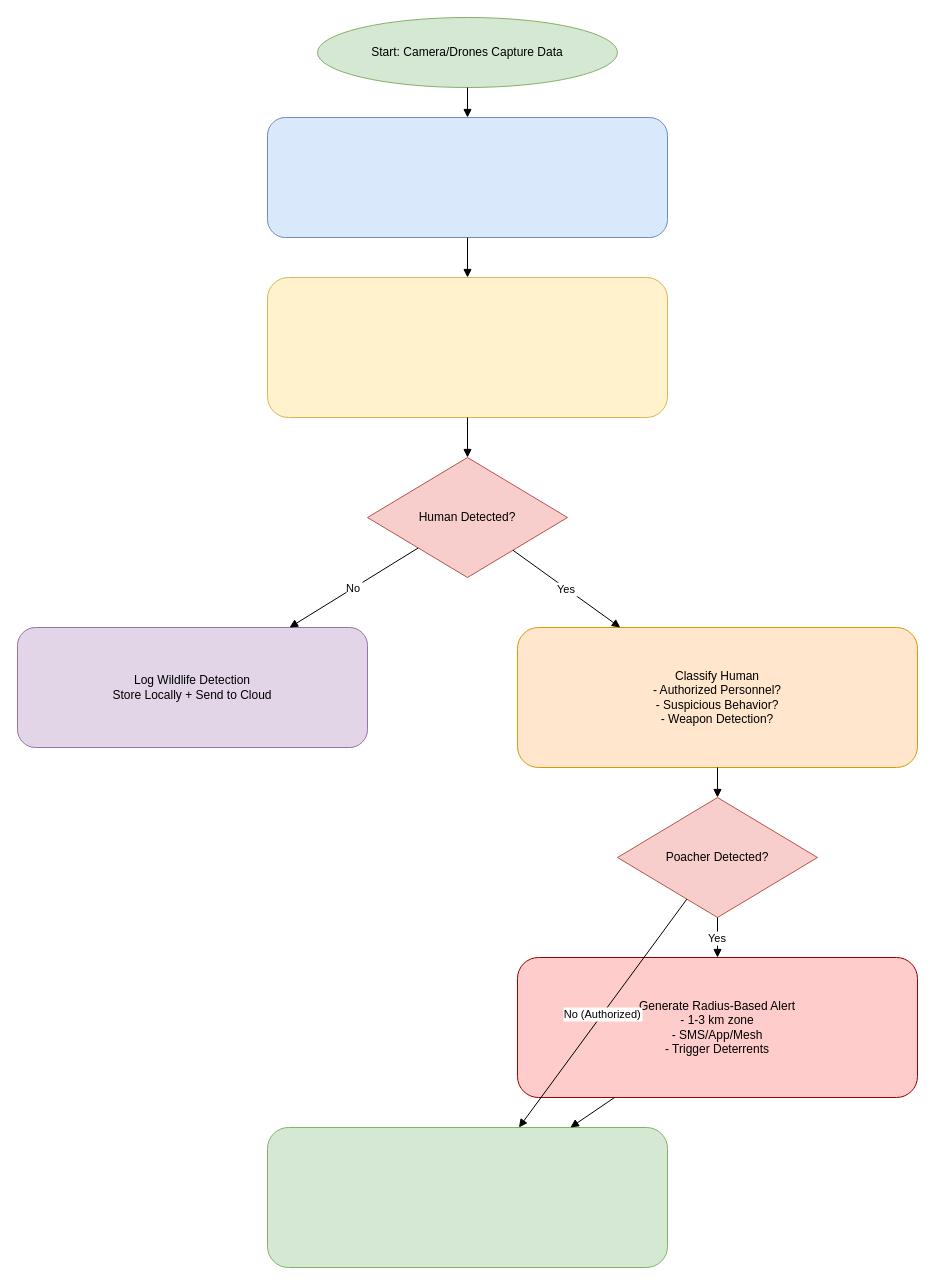
Image size: 935x1285. Some labels were removed from this diagram. The shapes that lost their labels are listed below. From the top down, each one's box as (x1, y1, x2, y2) in pixels, then its label:
(266, 116, 668, 238): Data Collection - Camera traps - Drones - Environmental Data
(266, 276, 668, 418): Edge AI (Jetson) YOLO Object Detection - Animals - Humans - Weapons/Objects
(266, 1126, 668, 1268): Cloud Dashboard - Heatmaps - Hotspots - Risk Zones - Historical Logs
